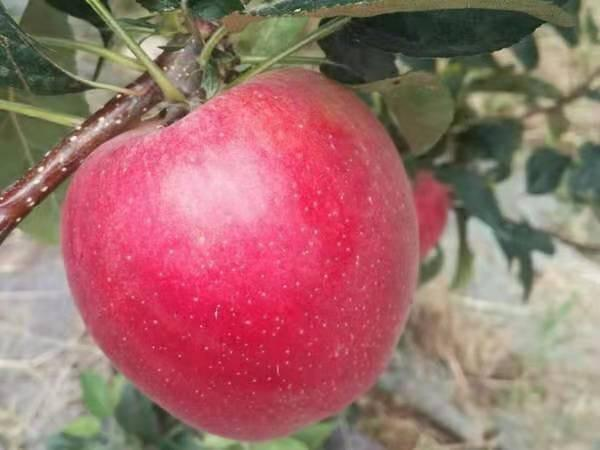apple: (62, 60, 420, 433)
